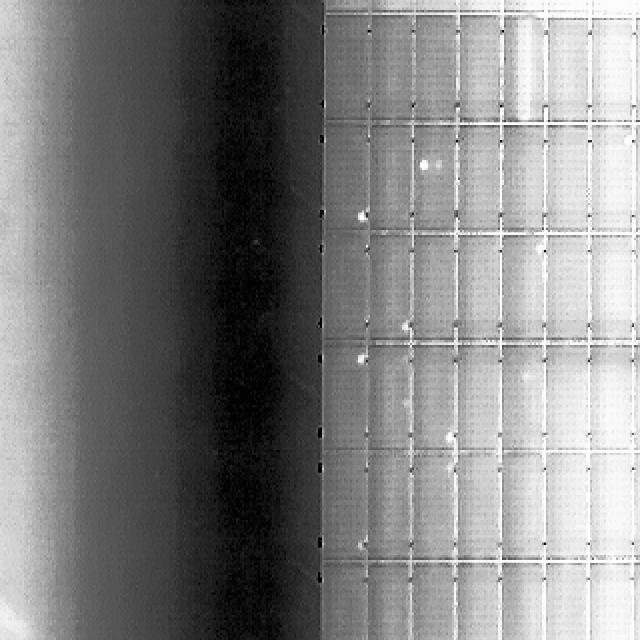Hotspots: (416, 153, 435, 174), (352, 208, 368, 230), (442, 427, 457, 447), (352, 346, 366, 367), (402, 321, 413, 342)
PV-modules: (452, 240, 500, 349), (452, 129, 500, 238), (451, 342, 499, 451), (362, 450, 409, 560), (543, 231, 589, 343), (543, 342, 590, 451), (411, 231, 457, 342), (543, 452, 589, 563), (409, 344, 456, 452), (546, 16, 592, 126), (586, 234, 632, 344), (504, 342, 550, 452), (457, 451, 503, 560), (589, 453, 635, 562), (504, 240, 550, 349), (544, 129, 590, 238), (323, 125, 368, 236), (363, 346, 410, 452), (586, 128, 632, 236), (322, 234, 368, 342), (459, 16, 505, 123), (500, 16, 546, 123), (410, 453, 455, 562), (364, 127, 409, 236), (365, 233, 409, 344), (324, 16, 370, 122), (322, 346, 368, 452), (411, 128, 456, 236), (413, 18, 457, 128), (586, 348, 632, 453), (500, 451, 544, 560), (323, 449, 367, 558), (366, 16, 411, 122), (503, 128, 547, 236), (590, 18, 634, 123), (321, 565, 369, 640), (362, 566, 410, 640), (408, 565, 455, 640), (454, 565, 500, 640), (589, 566, 634, 640), (544, 566, 589, 640), (499, 567, 544, 640), (544, 0, 590, 18), (630, 565, 640, 637), (458, 0, 504, 15), (412, 0, 456, 15), (500, 0, 544, 15), (592, 0, 636, 15), (324, 0, 370, 12), (368, 0, 410, 12), (638, 450, 640, 562), (638, 340, 640, 450), (638, 238, 640, 348), (638, 128, 640, 238), (638, 20, 640, 125), (632, 0, 640, 15)
